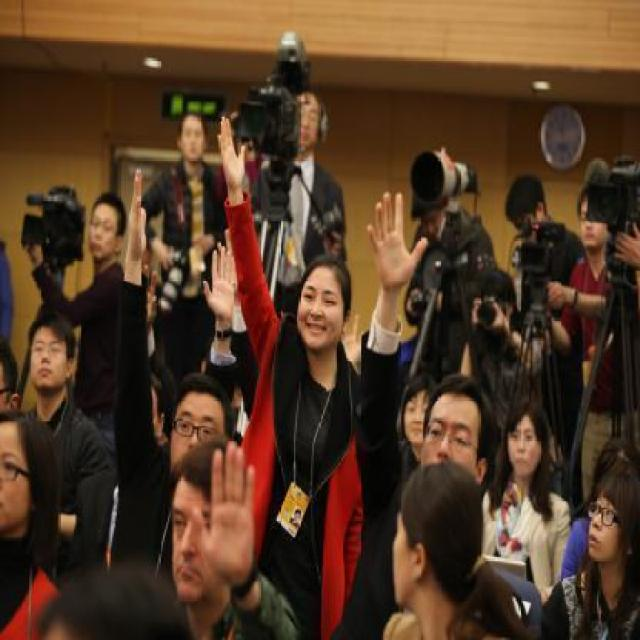face_nomask: (291, 272, 346, 351), (23, 338, 63, 404), (81, 216, 112, 266), (586, 504, 616, 553), (506, 430, 539, 467), (180, 126, 205, 163)
glasses: (418, 420, 478, 458), (170, 416, 222, 444), (585, 497, 618, 532)
hand_noglove: (192, 443, 257, 580), (365, 191, 429, 294), (202, 245, 238, 320), (216, 114, 247, 188), (128, 166, 148, 252), (614, 222, 640, 268), (141, 265, 157, 332), (546, 278, 565, 311), (154, 240, 171, 269), (486, 300, 503, 329), (471, 298, 480, 331)
head_nohelmet: (592, 464, 640, 516), (435, 370, 491, 412), (180, 376, 235, 406), (26, 312, 89, 338), (304, 254, 350, 281), (506, 400, 543, 426), (92, 194, 131, 215), (177, 112, 205, 128)
person: (15, 131, 144, 415), (260, 260, 354, 602), (134, 99, 235, 258), (266, 81, 343, 236)
